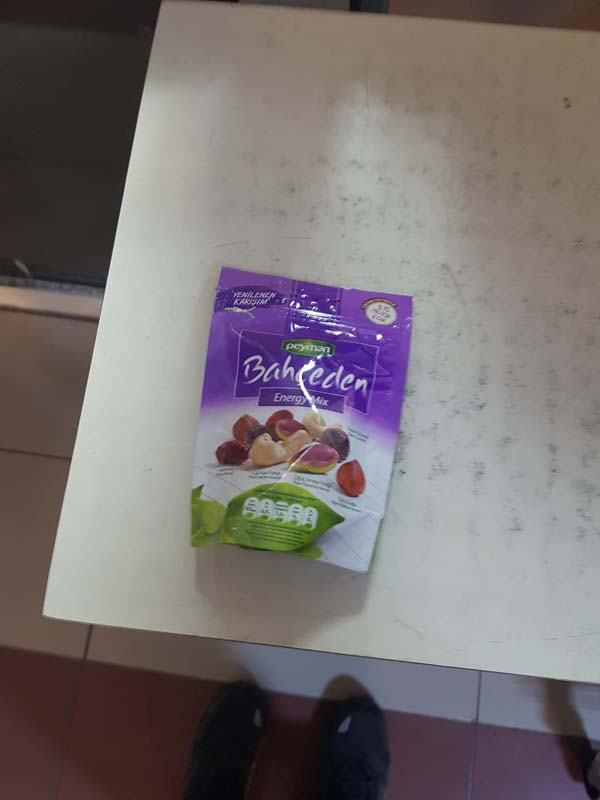bahcedenenergymix: (189, 249, 418, 590)
